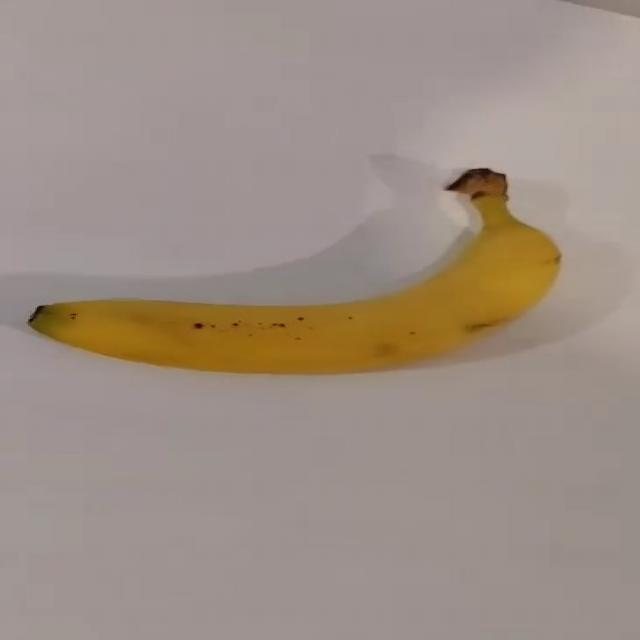Banana: (27, 166, 562, 375)
